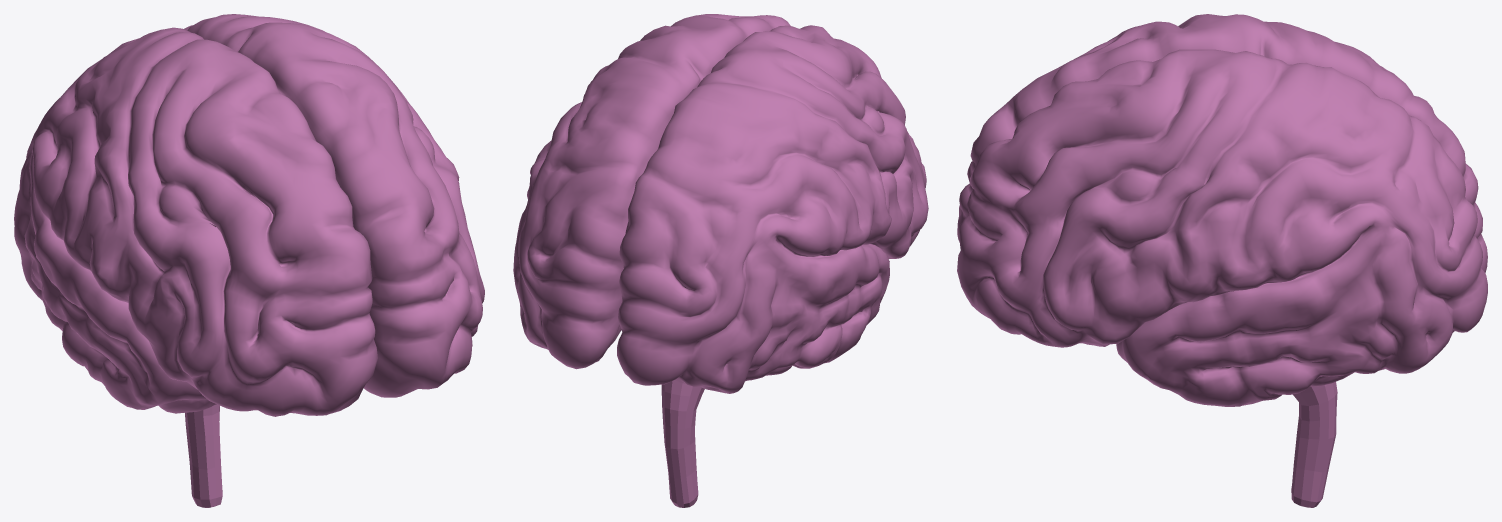
Rendered from hola.glb.
3 renders of one model, left to right at view 1: azimuth 30°, elevation 25°; view 2: azimuth 150°, elevation 25°; view 3: azimuth 270°, elevation 25°, orthographic. The views are drawn at different scales.
Visible parts, largest first — view 1: V1_1:jianmian_03:Group1, V1_1:jianmian_03:Female_Nervous_Medulla_Caudate_Nucleus; view 2: V1_1:jianmian_03:Group1, V1_1:jianmian_03:Female_Nervous_Medulla_Caudate_Nucleus; view 3: V1_1:jianmian_03:Group1, V1_1:jianmian_03:Female_Nervous_Medulla_Caudate_Nucleus.
Part boxes in pixels (x1,y1,x2,y2): V1_1:jianmian_03:Group1: (14,14,484,416); V1_1:jianmian_03:Female_Nervous_Medulla_Caudate_Nucleus: (185,404,222,507); V1_1:jianmian_03:Group1: (513,14,928,393); V1_1:jianmian_03:Female_Nervous_Medulla_Caudate_Nucleus: (661,381,704,507); V1_1:jianmian_03:Group1: (957,14,1487,406); V1_1:jianmian_03:Female_Nervous_Medulla_Caudate_Nucleus: (1291,382,1337,507).
Size of the model in its own units: 0.1694 by 0.2325 by 0.2396.
